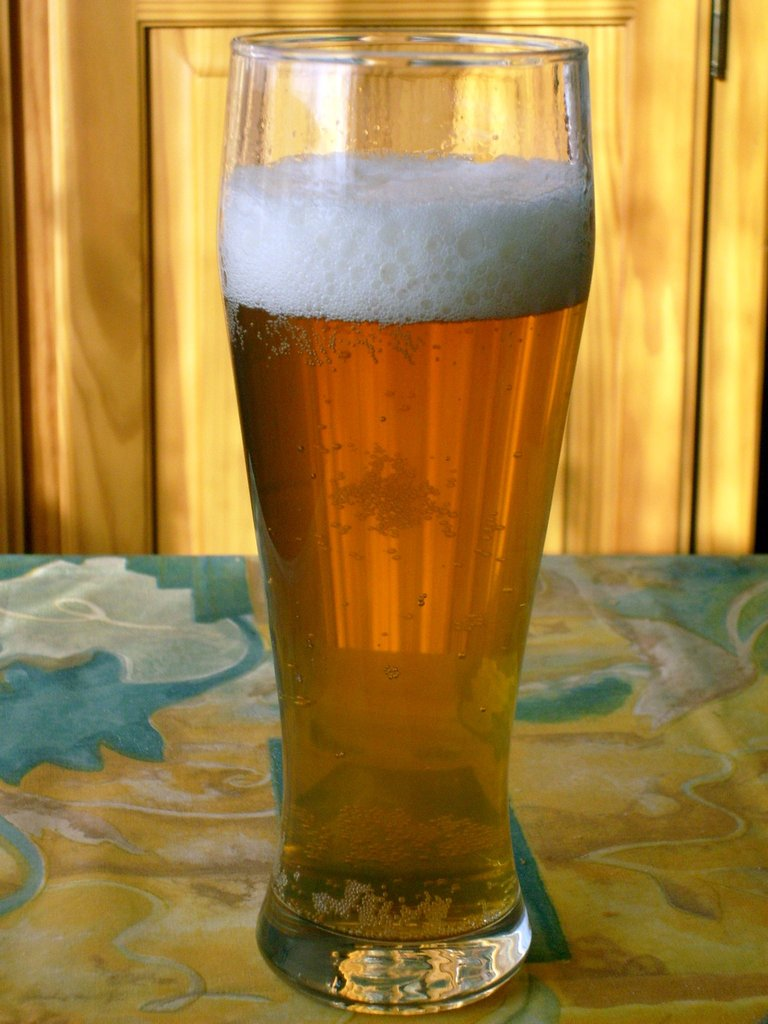Beer: (200, 1, 585, 1023)
